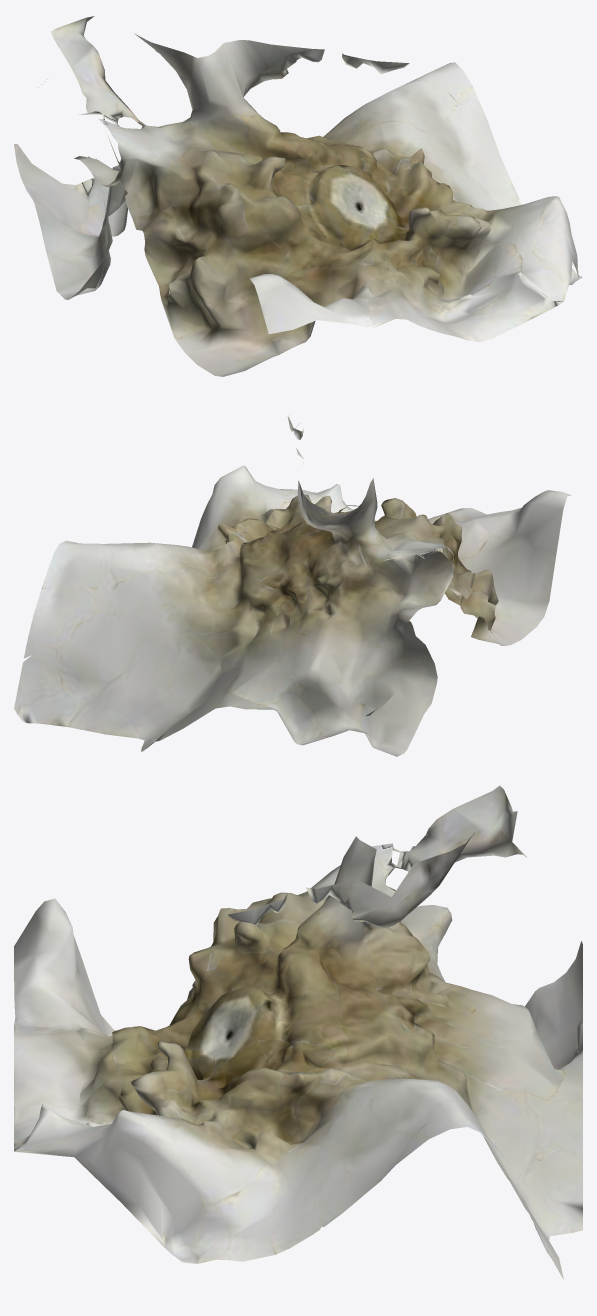
Rendered from hall.glb.
3 renders of one model, top to bottom at view 1: azimuth 30°, elevation 25°; view 2: azimuth 150°, elevation 25°; view 3: azimuth 270°, elevation 25°, orthographic. The views are drawn at different scales.
Bounding box in the file's own units: 1.04 × 0.7056 × 1.17.
1 material, 1 textured.
